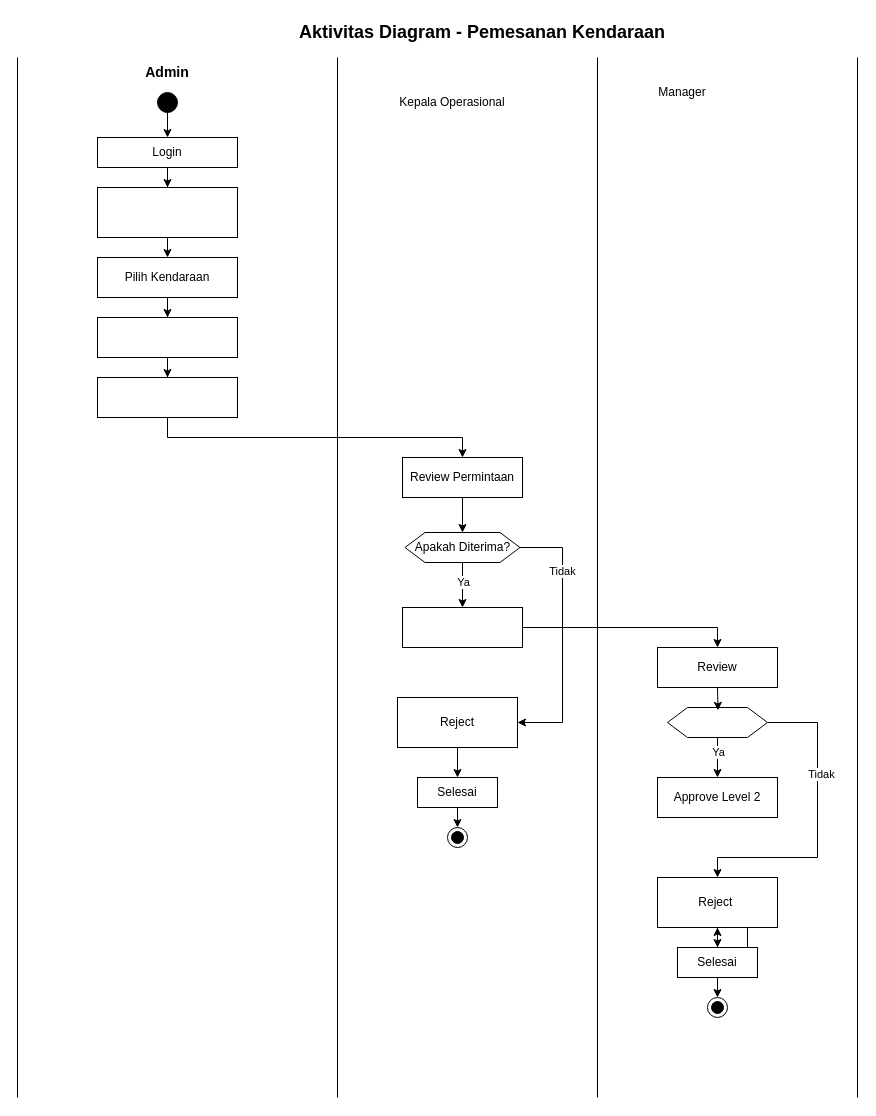
The diagram is 876 pixels wide and 1116 high, and some of its shapes have lost their labels. Each missing label, with the centre of its shape:
Approve Level 1: (x=462, y=627)
Approve?: (x=717, y=722)
Isi Form Pemesanan: (x=167, y=212)
Pilih Driver: (x=167, y=337)
Submit Permintaan: (x=167, y=397)
